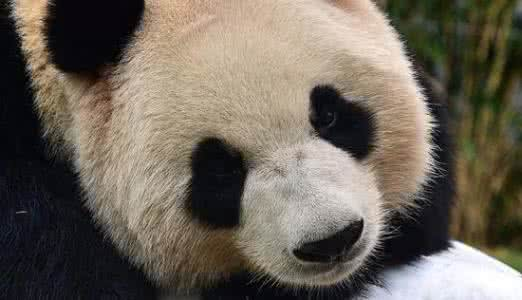panda: (2, 1, 447, 295)
